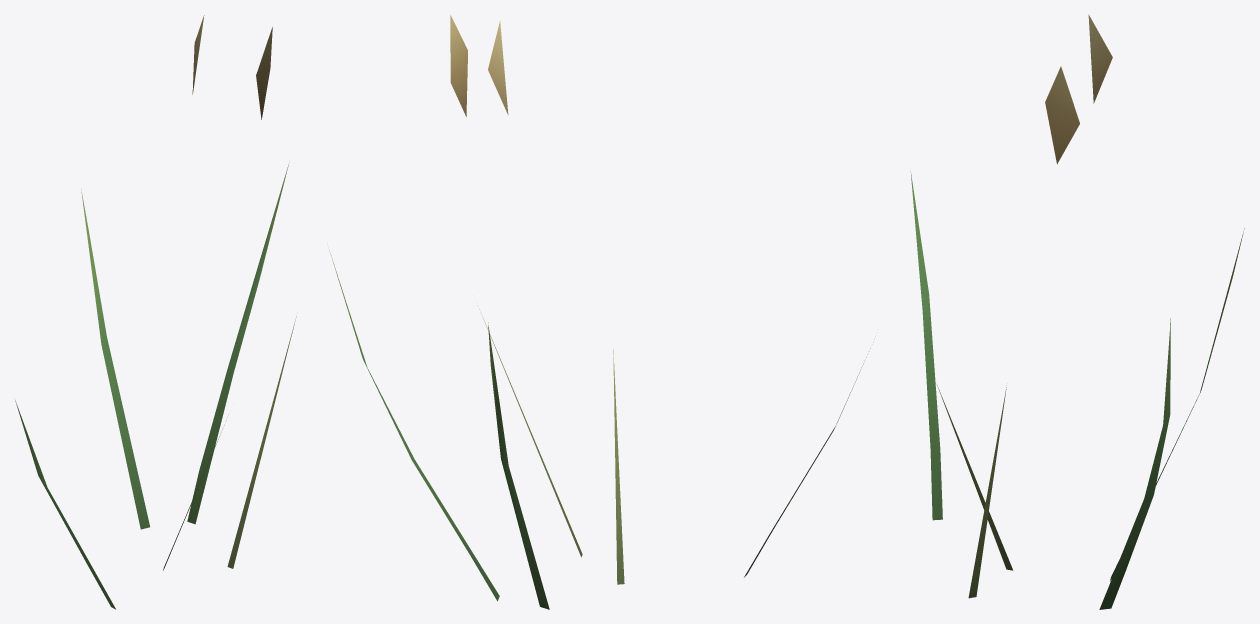
File: TallMeadowClump_LOD3.glb
The picture shows the model from 3 angles, left to right: view 1: azimuth 30°, elevation 25°; view 2: azimuth 150°, elevation 25°; view 3: azimuth 270°, elevation 25°; orthographic projection. The views are drawn at different scales.
Visible parts, largest first — view 1: TallMeadowClump_LOD3; view 2: TallMeadowClump_LOD3; view 3: TallMeadowClump_LOD3.
Part boxes in pixels (bbox=[...]): TallMeadowClump_LOD3: bbox=[15, 15, 296, 609]; TallMeadowClump_LOD3: bbox=[329, 15, 870, 609]; TallMeadowClump_LOD3: bbox=[910, 14, 1244, 609].
Size of the model in its own units: 0.3975 by 0.5033 by 0.2551.
